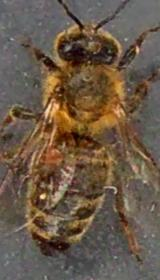varroa_mite: (42, 148, 66, 168)
